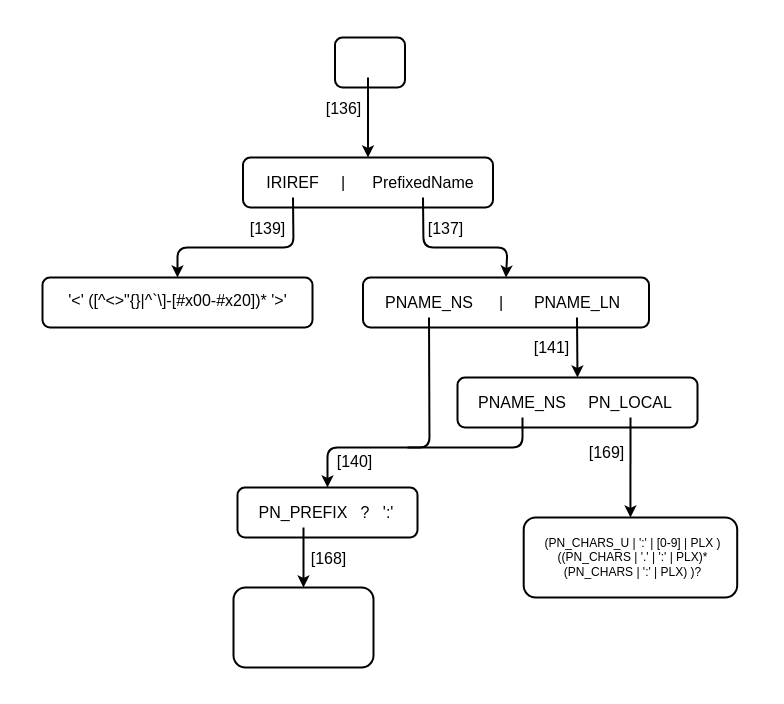
Some shapes in this 784 by 704 pixel diagram are drawn without their labels. Each missing label, with the centre of its shape:
"iri" goes at point 370,62.
"PN_CHARS_BASE ((PN_CHARS|'.')* PN_CHARS)?" goes at point 303,627.
